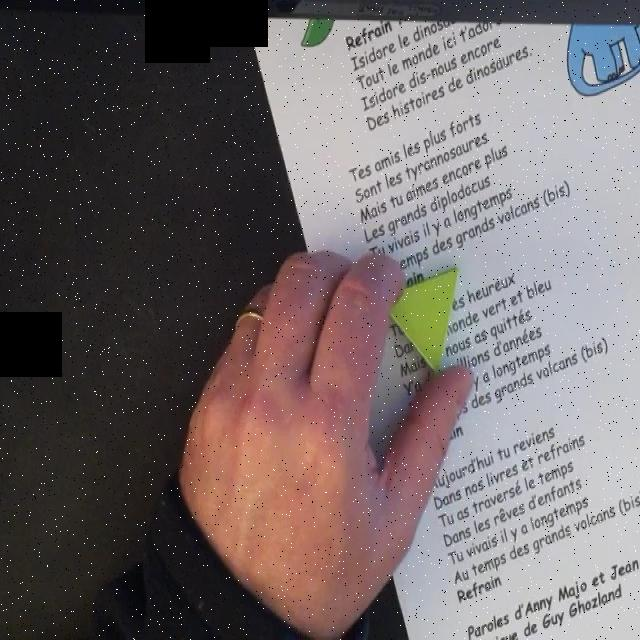triangle: (377, 266, 460, 374)
